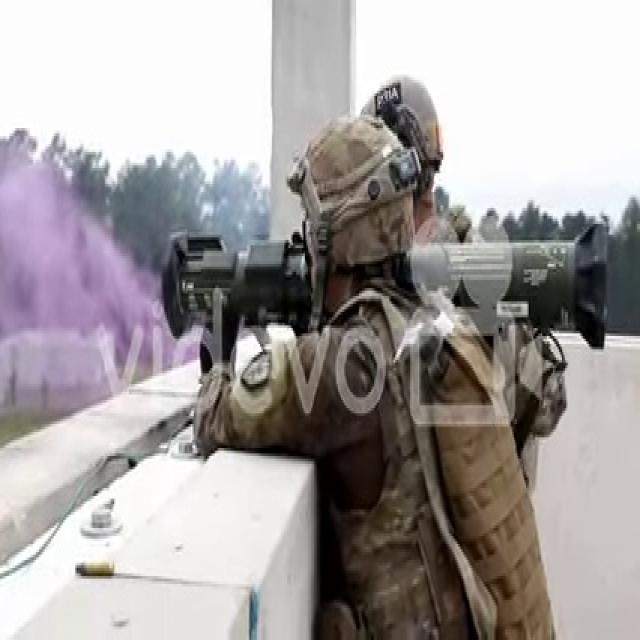bazooka: (158, 201, 613, 369)
